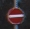No entry: (5, 5, 25, 24)
